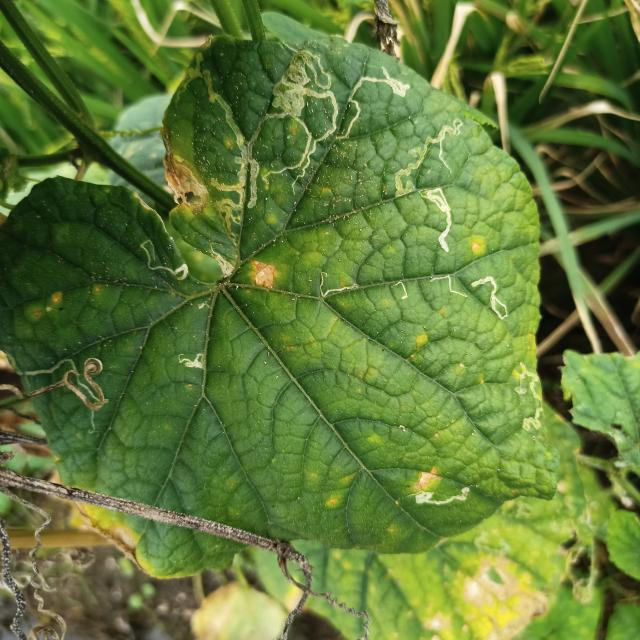disease_cucumber: (29, 289, 64, 322), (251, 259, 280, 292), (411, 466, 442, 491), (469, 241, 485, 256)
